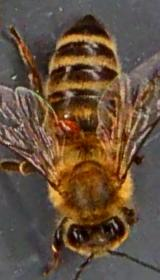varroa_mite: (56, 114, 81, 132)
